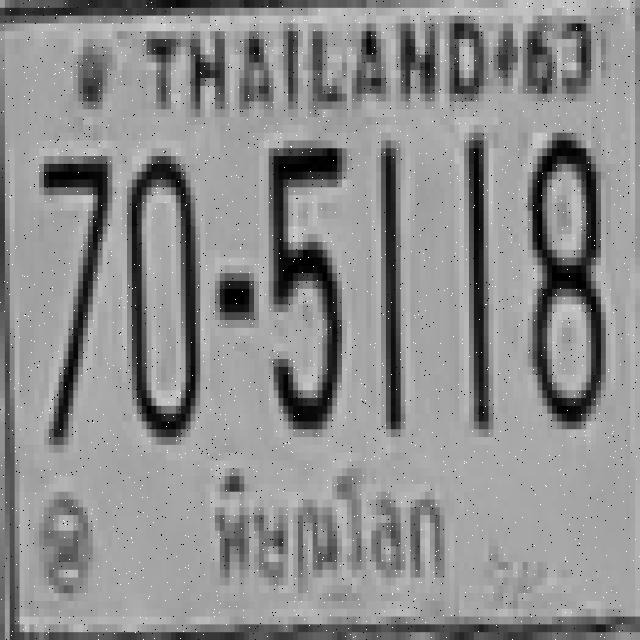0: (124, 148, 198, 437)
1: (464, 129, 488, 425), (379, 140, 403, 430)
5: (266, 140, 344, 430)
7: (40, 148, 108, 437)
8: (528, 125, 606, 421)
Phitsanulok: (200, 464, 460, 606)
